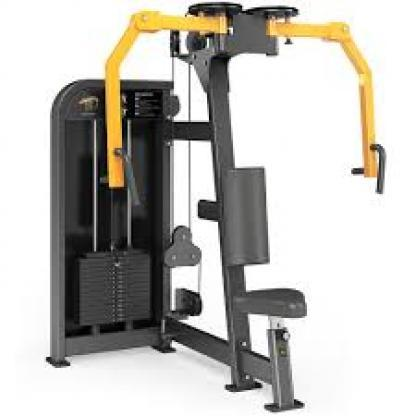chest fly machine: (39, 1, 390, 416)
